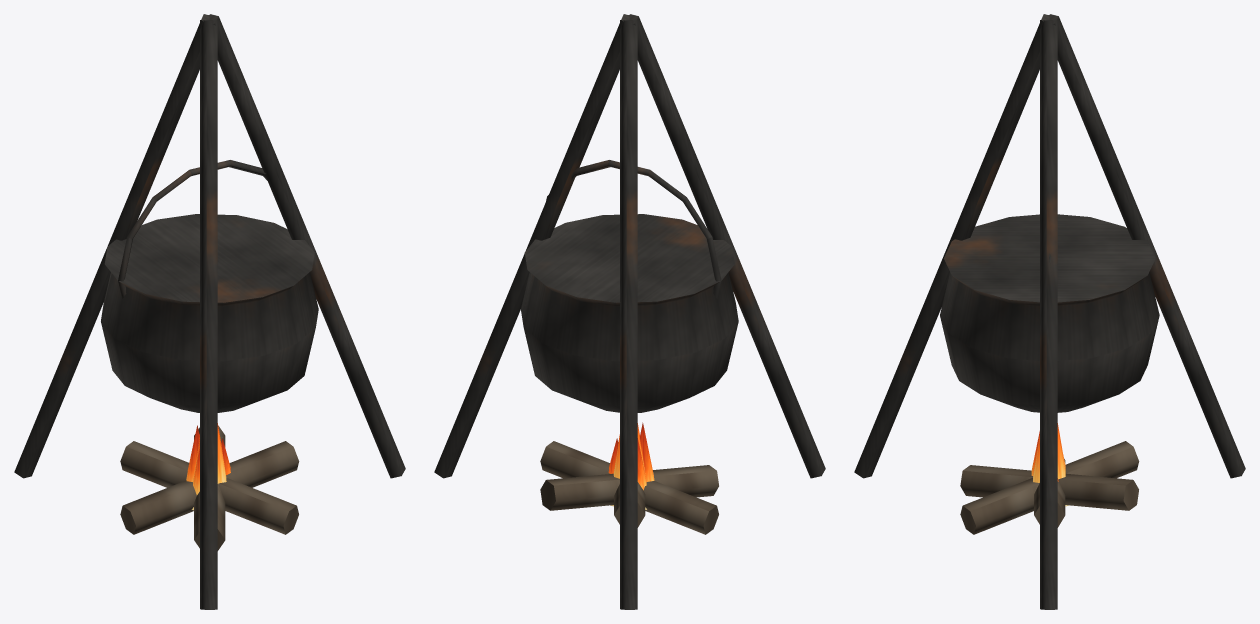
Rendered from cooking_pot.gltf.
3 views of the same model, side by side, from view 1: azimuth 30°, elevation 25°; view 2: azimuth 150°, elevation 25°; view 3: azimuth 270°, elevation 25° (orthographic).
Parts seen in each view (by area): view 1: cooking_pot_mesh; view 2: cooking_pot_mesh; view 3: cooking_pot_mesh.
Boxes of the visible parts, left/top/right/bottom form: cooking_pot_mesh: left=14, top=14, right=405, bottom=609; cooking_pot_mesh: left=434, top=14, right=825, bottom=609; cooking_pot_mesh: left=854, top=14, right=1245, bottom=609.
Size of what is drawn, in the model's own units: 0.8715 by 1.42 by 0.9976.
3 materials, 3 textured.
